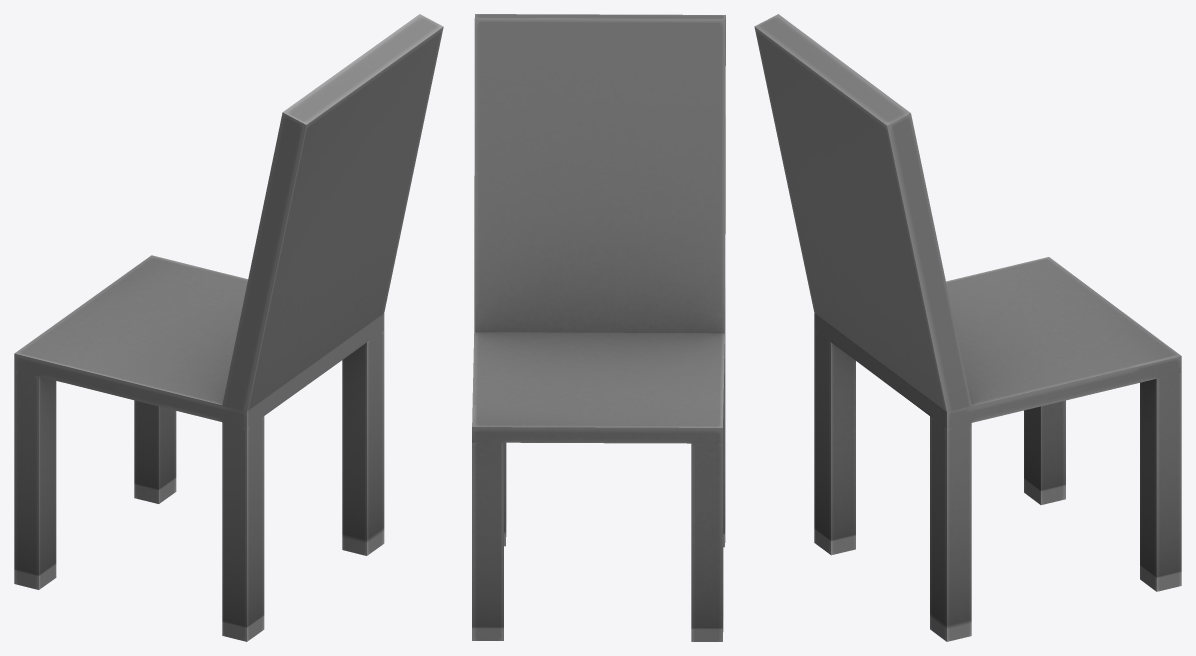
File: bar_mesh.017_lev1.glb
3 views of the same model, side by side, from view 1: azimuth 30°, elevation 25°; view 2: azimuth 150°, elevation 25°; view 3: azimuth 270°, elevation 25° (orthographic). The views are drawn at different scales.
Visible parts, largest first — view 1: bar_mesh.017_lev1; view 2: bar_mesh.017_lev1; view 3: bar_mesh.017_lev1.
Boxes of the visible parts, x1,y1,x2,y2 form: bar_mesh.017_lev1: [14, 14, 443, 641]; bar_mesh.017_lev1: [472, 14, 725, 641]; bar_mesh.017_lev1: [754, 14, 1181, 641].
Bounding box in the file's own units: 1.95 × 2.88 × 2.08.
1 material, 1 textured.
